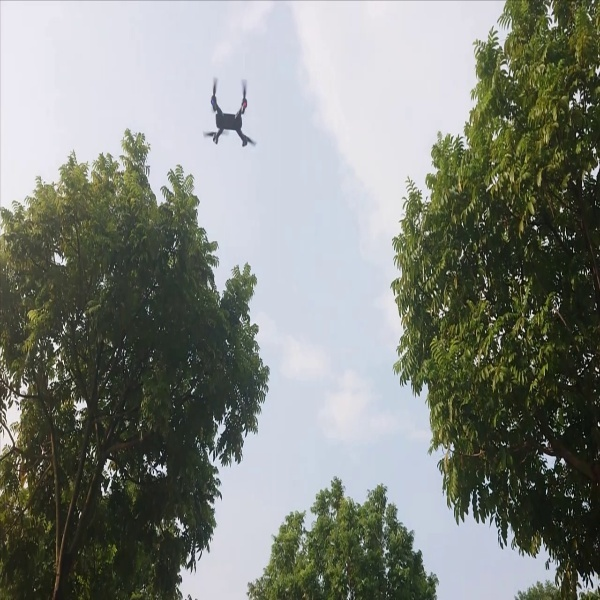drone: (199, 71, 260, 152)
